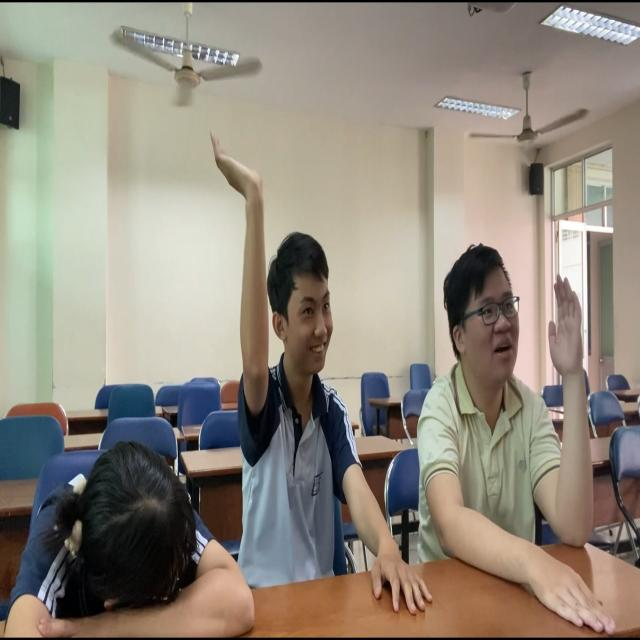raise_hand: (210, 127, 395, 590), (424, 236, 609, 592)
sleep: (1, 445, 249, 631)
